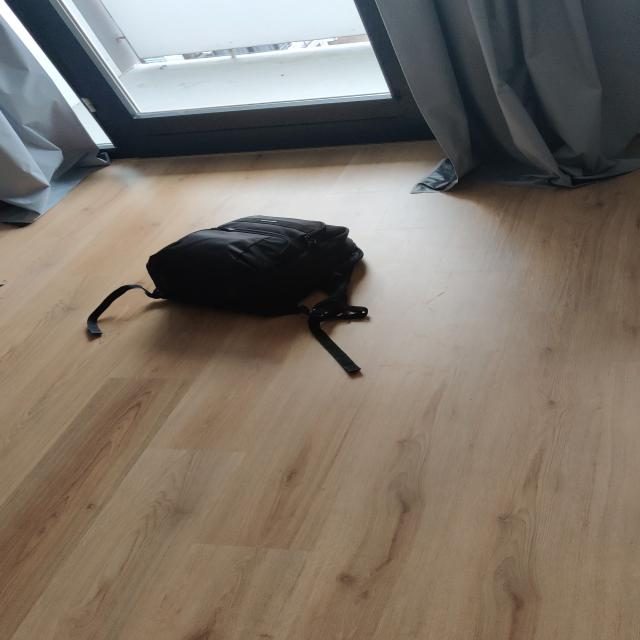backpack: (140, 209, 374, 322)
